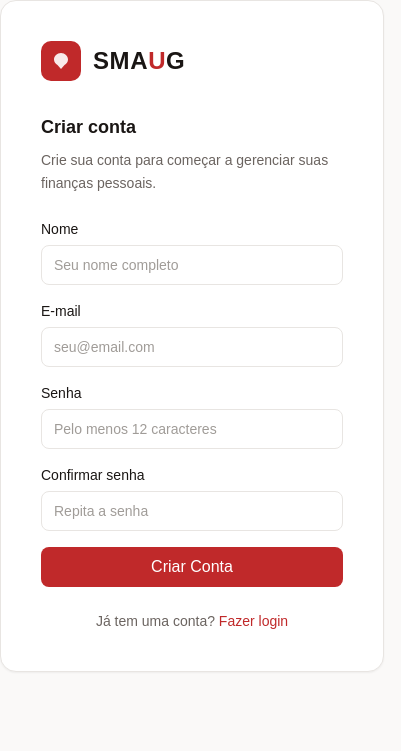
Test: página de cadastro › no EMAIL_ALREADY_EXISTS mostra a mensagem e o link para Entrar
In the field labelled "Nome": (192, 264) [41,244,343,284], type "Maria Souza"
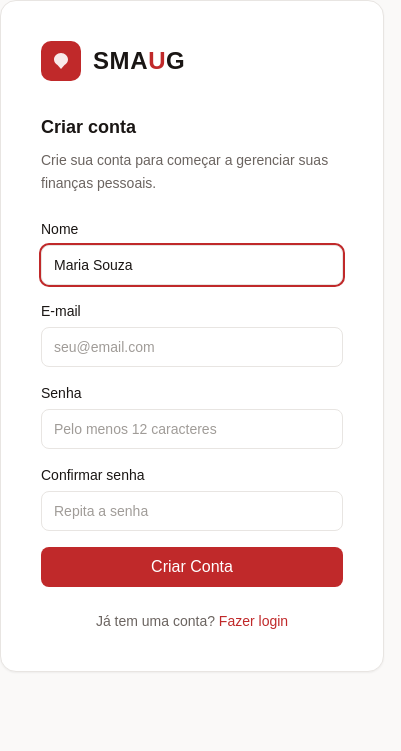
In the field labelled "E-mail": (192, 346) [41,326,343,366], type "maria@example.com"
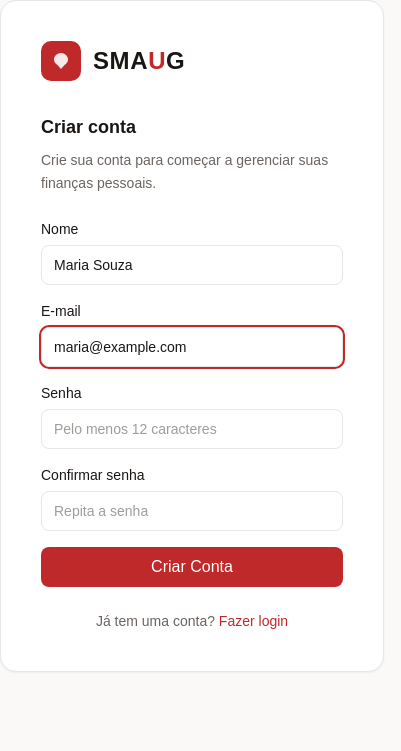
In the password field labelled "Senha": (192, 428) [41,408,343,448], type "senha muito segura"
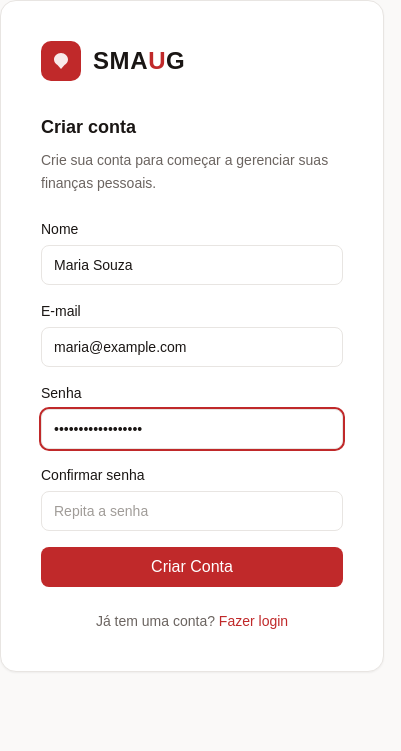
In the password field labelled "Confirmar senha": (192, 510) [41,490,343,530], type "senha muito segura"
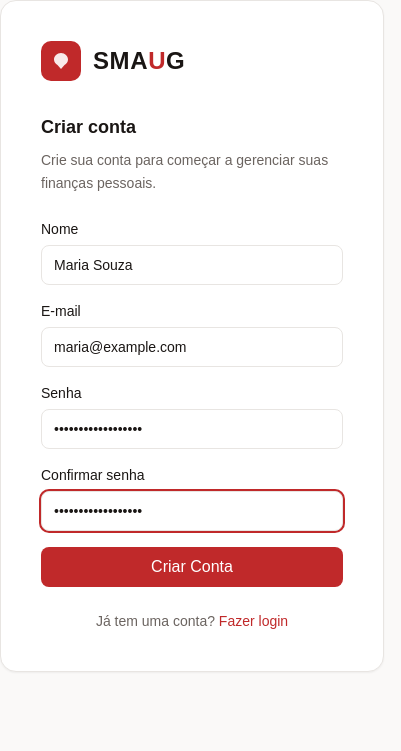
Click the button "Criar Conta": (192, 566) [41,546,343,586]
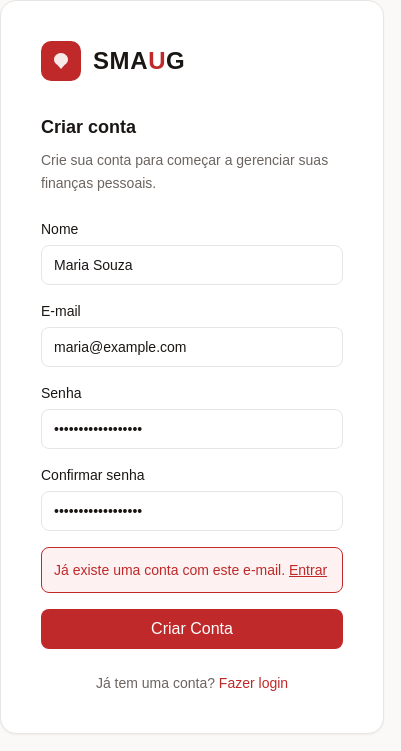
Now the text "Já existe uma conta com este e-mail." is shown, box [54,562,285,578]
